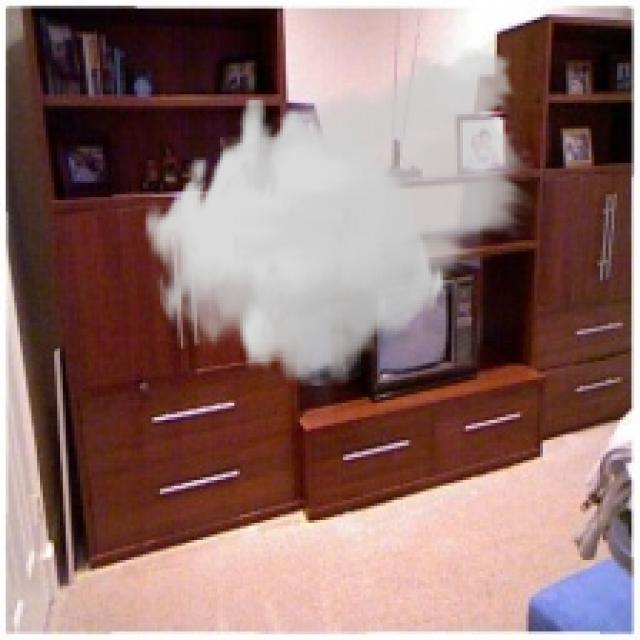smoke: (143, 31, 537, 386)
